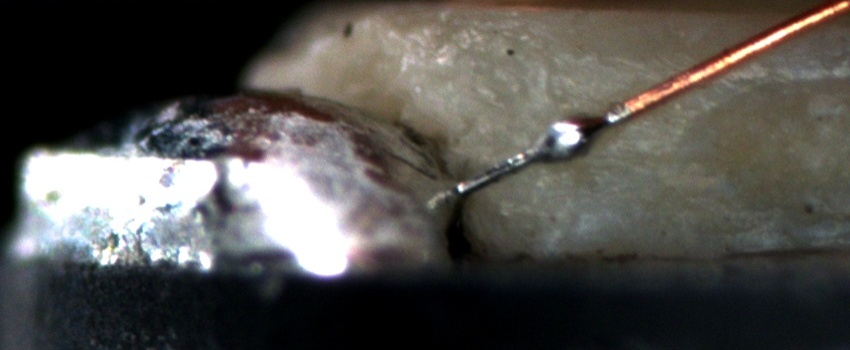DL: (587, 48, 850, 98), (526, 137, 689, 176)
TB: (532, 109, 610, 165)
TS: (456, 102, 630, 193)
TTCW: (452, 87, 652, 193)
